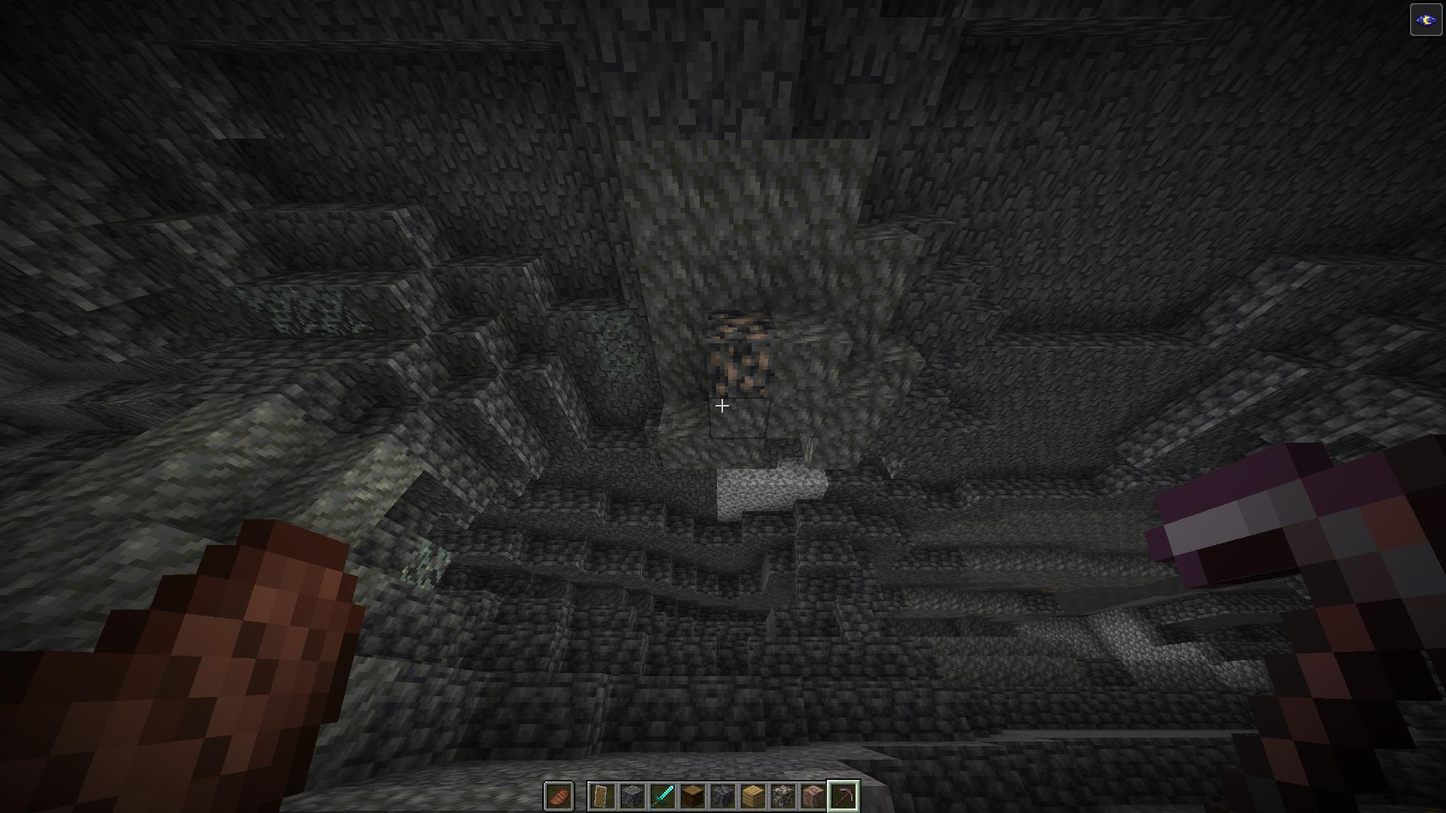iron ore: (706, 312, 774, 397)
